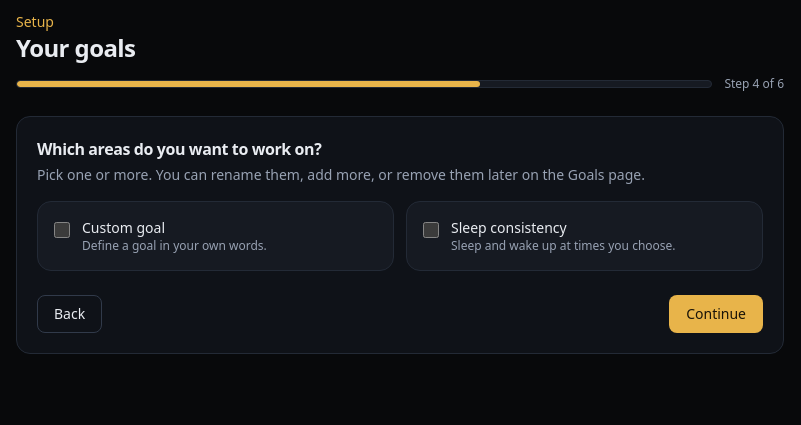
Test: OnboardingPage › requires at least one goal selection before continuing
Click the button "Continue".
click(716, 314)  # box [669, 295, 763, 333]
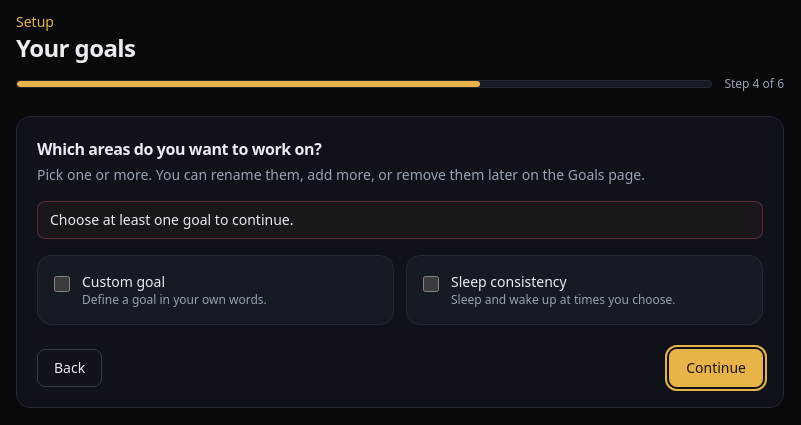
Expected: the text "Choose at least one goal to continue." is shown, [37, 201, 763, 239]
